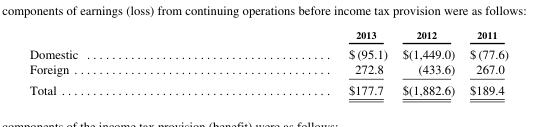table: (28, 28, 507, 96)
table column: (28, 28, 212, 96), (212, 28, 394, 96), (394, 28, 461, 96), (461, 28, 507, 96)
table column header: (28, 28, 507, 43)
table row: (28, 43, 507, 61), (28, 61, 507, 79), (28, 79, 507, 96), (28, 28, 507, 43)
